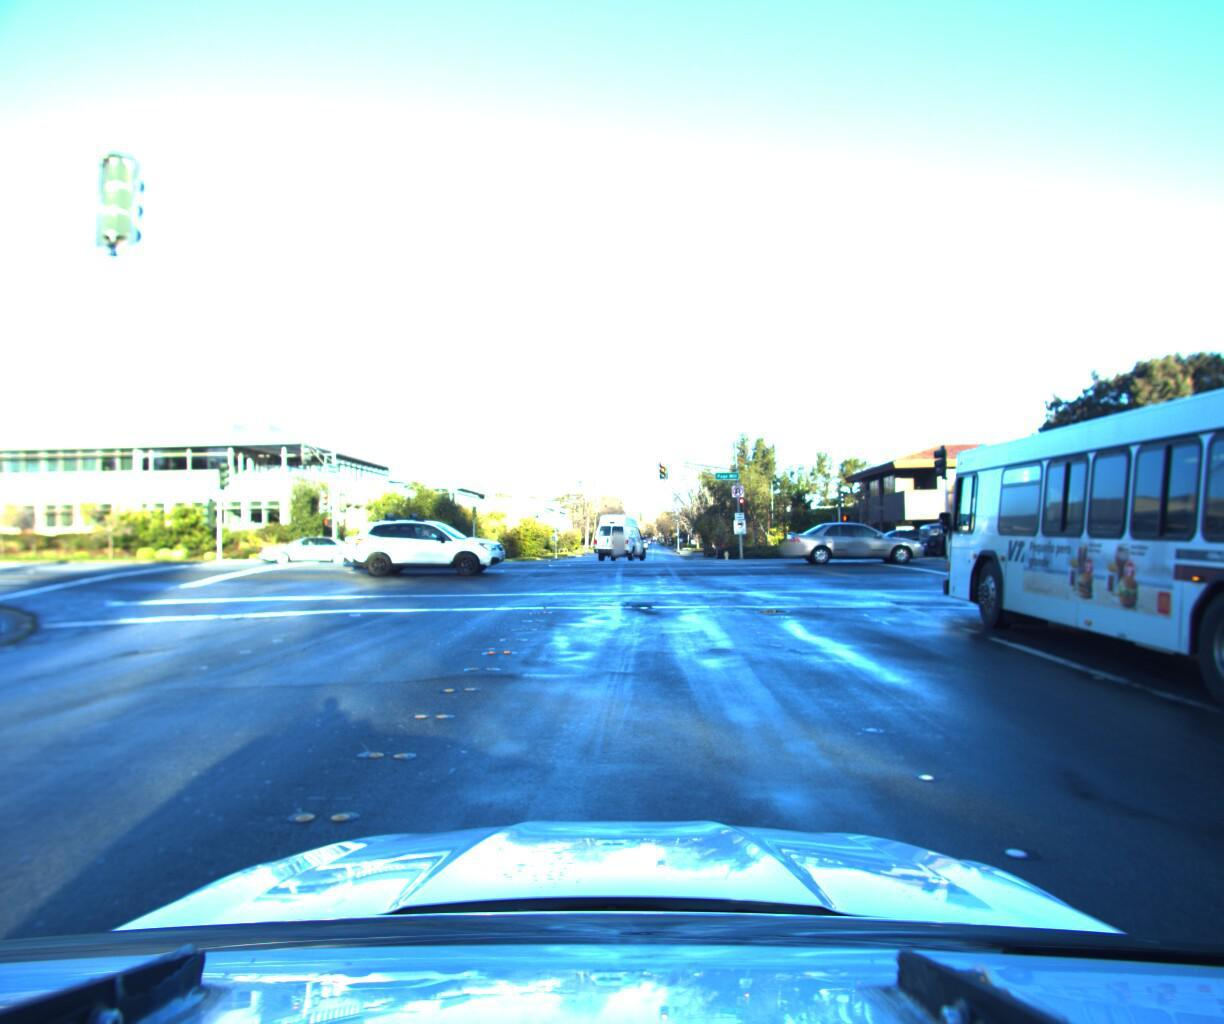bus: (919, 170, 1224, 827)
car: (350, 507, 512, 574), (908, 495, 1082, 550), (776, 504, 928, 560), (330, 520, 470, 567), (255, 533, 361, 565), (587, 509, 651, 558)
